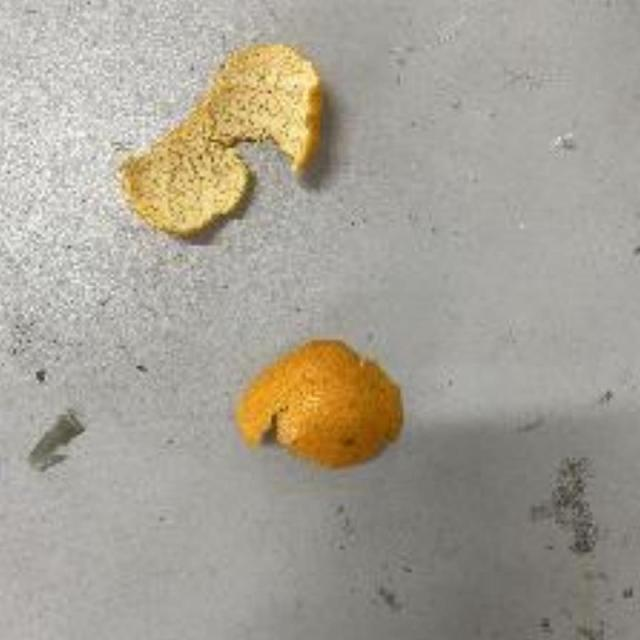orange-peel: (117, 40, 328, 241), (233, 334, 409, 468)
